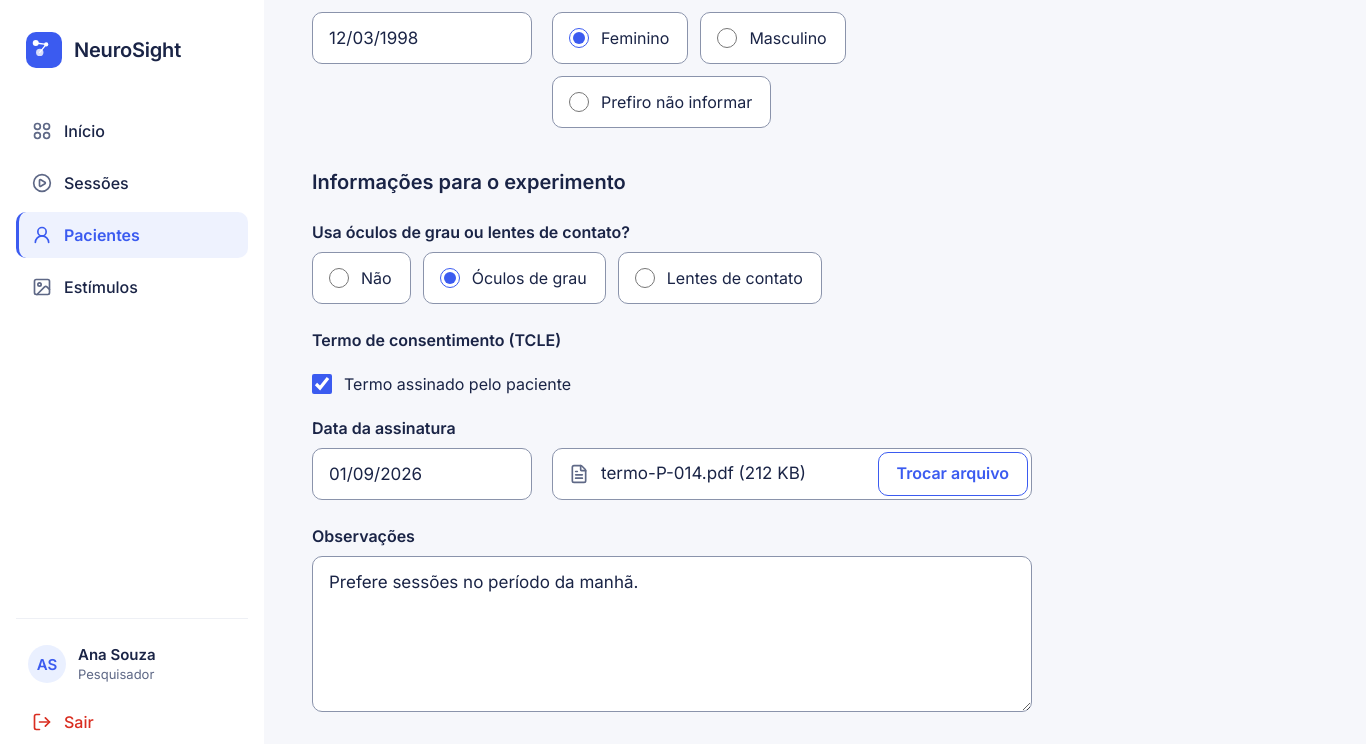
W07 Novo e Editar paciente › editar: mostra o termo salvo; desmarcar a assinatura tira a data e o PDF
(page scrolled)
Expected: the field labelled "Data de nascimento" holds "12/03/1998", [312,12,532,64]
Expected: the radio button labelled "Feminino" is checked, [569,28,589,48]
Click the checkbox labelled "Termo assinado pelo paciente" at point(322, 384), box [312,374,332,394]
(page scrolled)
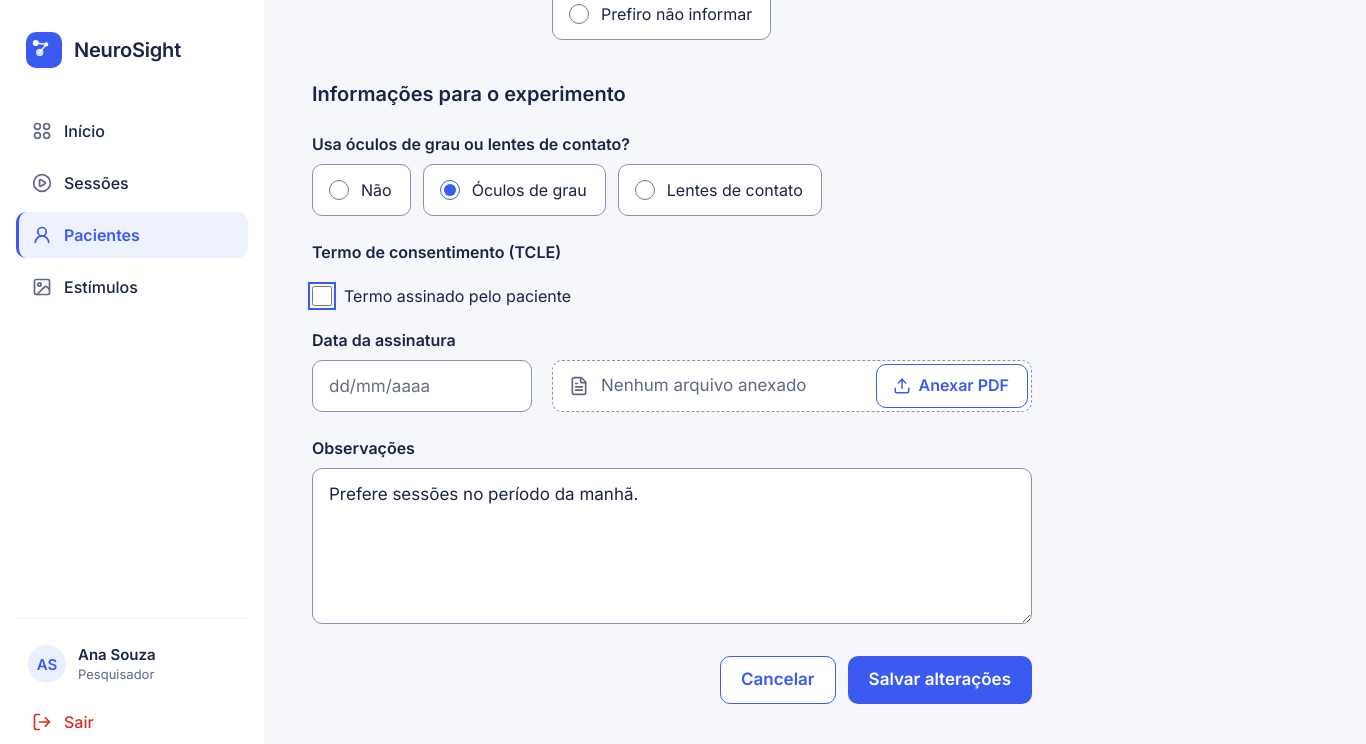
Expected: the field labelled "Data da assinatura" is empty, [312,360,532,412]
Expected: the text "Nenhum arquivo anexado" is shown, [601,375,806,395]
Click the button "Salvar alterações" at point(940, 680), box [848,656,1032,704]
(page scrolled)
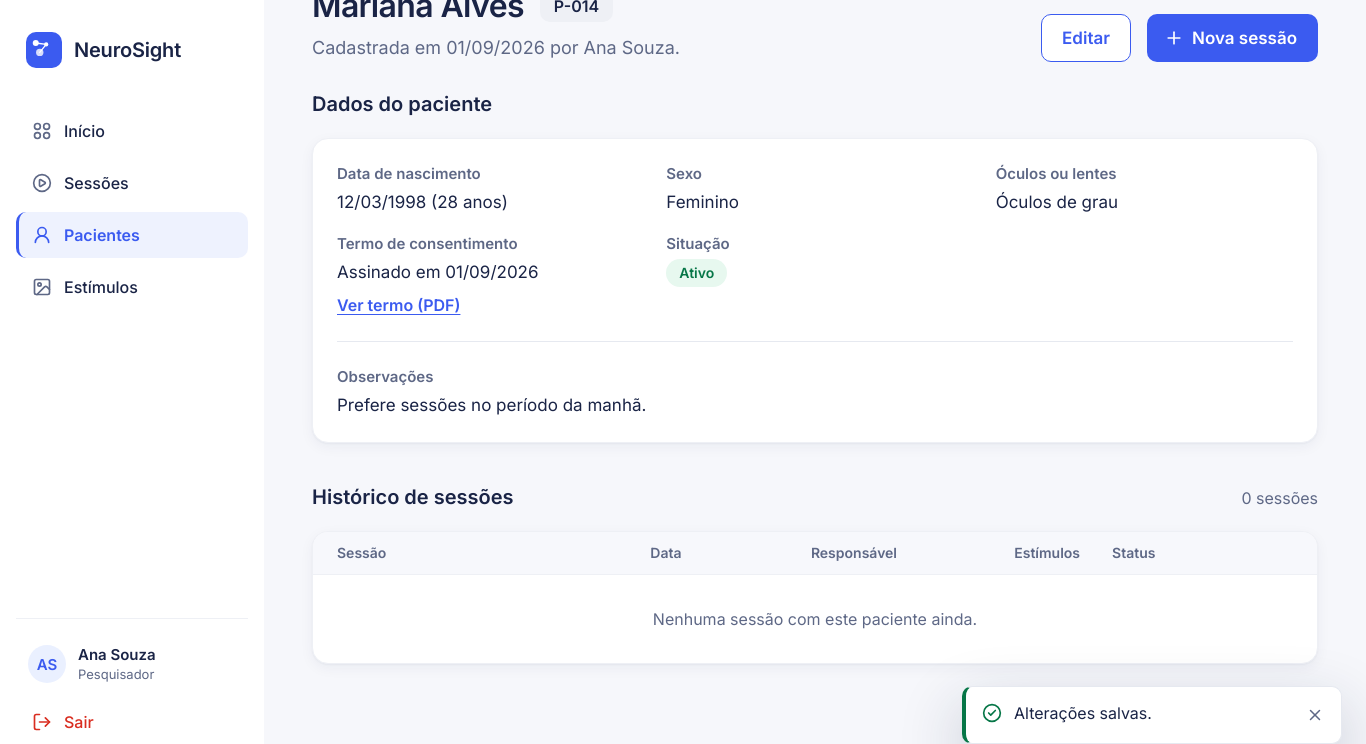
Expected: the text "Alterações salvas." is shown, [1014,703,1152,723]
